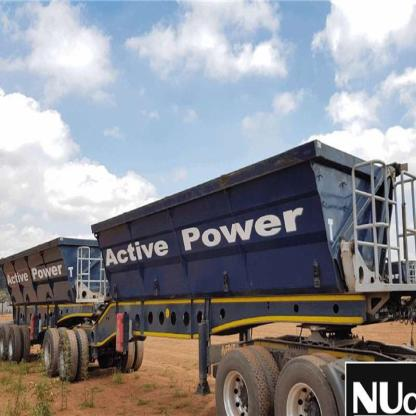dump_truck: (5, 140, 413, 409)
